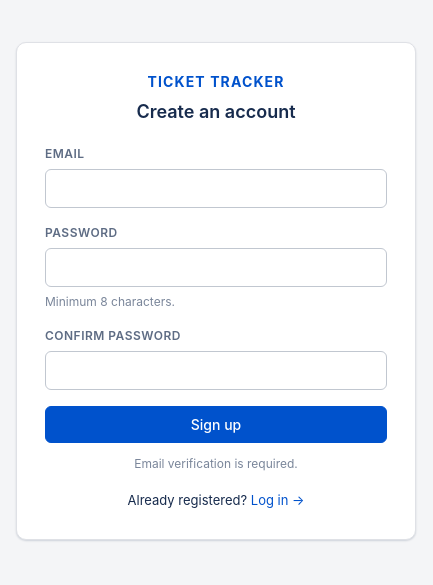
SignupPage › surfaces a server validation error as an error banner without leaving success state
Type "bad-email" into the field labelled "Email" at point(216, 189), box [45,169,387,208]
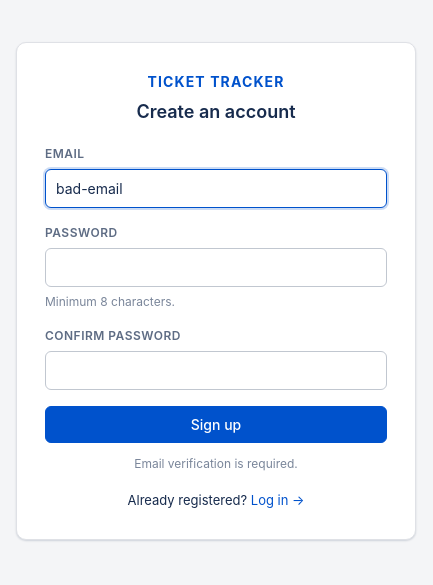
Type "correct horse battery" into the password field labelled "Password" at point(216, 268), box [45,248,387,287]
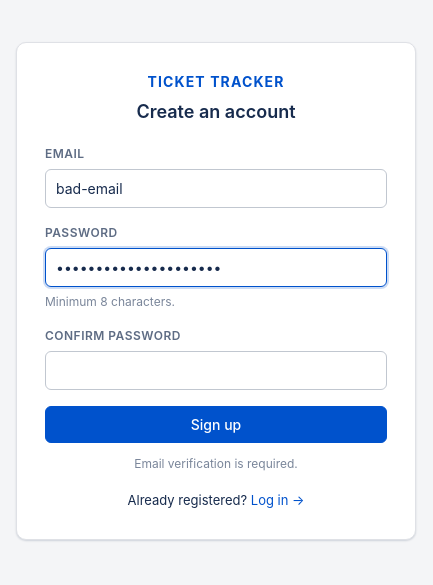
Type "correct horse battery" into the password field labelled "Confirm password" at point(216, 371), box [45,351,387,390]
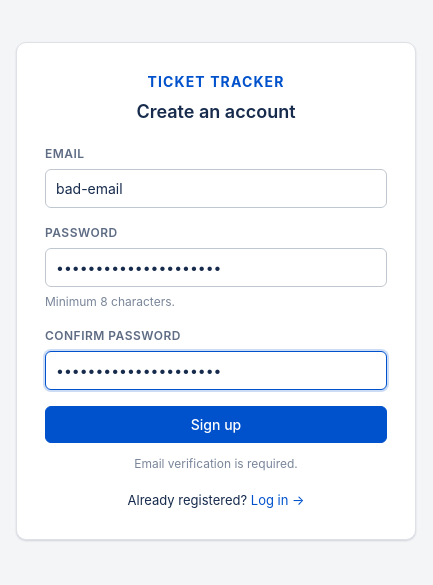
Click the button "Sign up" at point(216, 425), box [45,406,387,443]
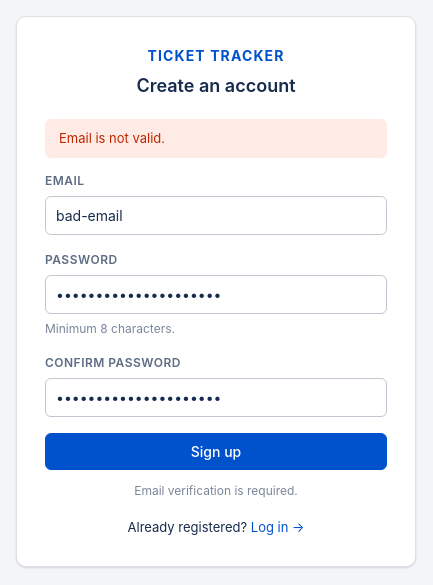
Check: the button "Sign up" is shown, box [45,433,387,470]
Check: the text "Email is not valid." is shown, box [45,118,387,158]
